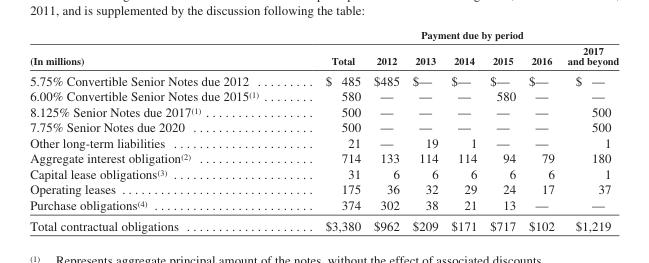table: (29, 28, 618, 232)
table column: (29, 28, 291, 232), (291, 28, 366, 232), (560, 28, 618, 232), (366, 28, 405, 232), (405, 28, 444, 232), (482, 28, 521, 232), (521, 28, 560, 232), (444, 28, 482, 232)
table column header: (29, 28, 618, 69)
table row: (29, 42, 618, 69), (29, 69, 618, 88), (29, 196, 618, 214), (29, 214, 618, 232), (29, 103, 618, 119), (29, 134, 618, 150), (29, 165, 618, 181), (29, 88, 618, 103), (29, 119, 618, 134), (29, 150, 618, 165), (29, 181, 618, 196), (29, 28, 618, 42)
table spanning cell: (29, 28, 291, 69), (291, 28, 618, 42)
